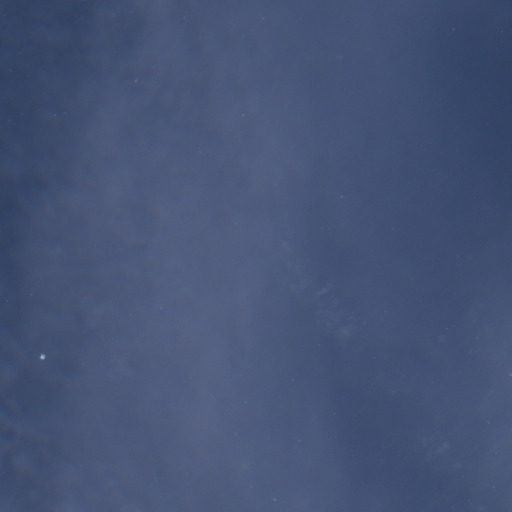Iceberg: (40, 354, 45, 359)
